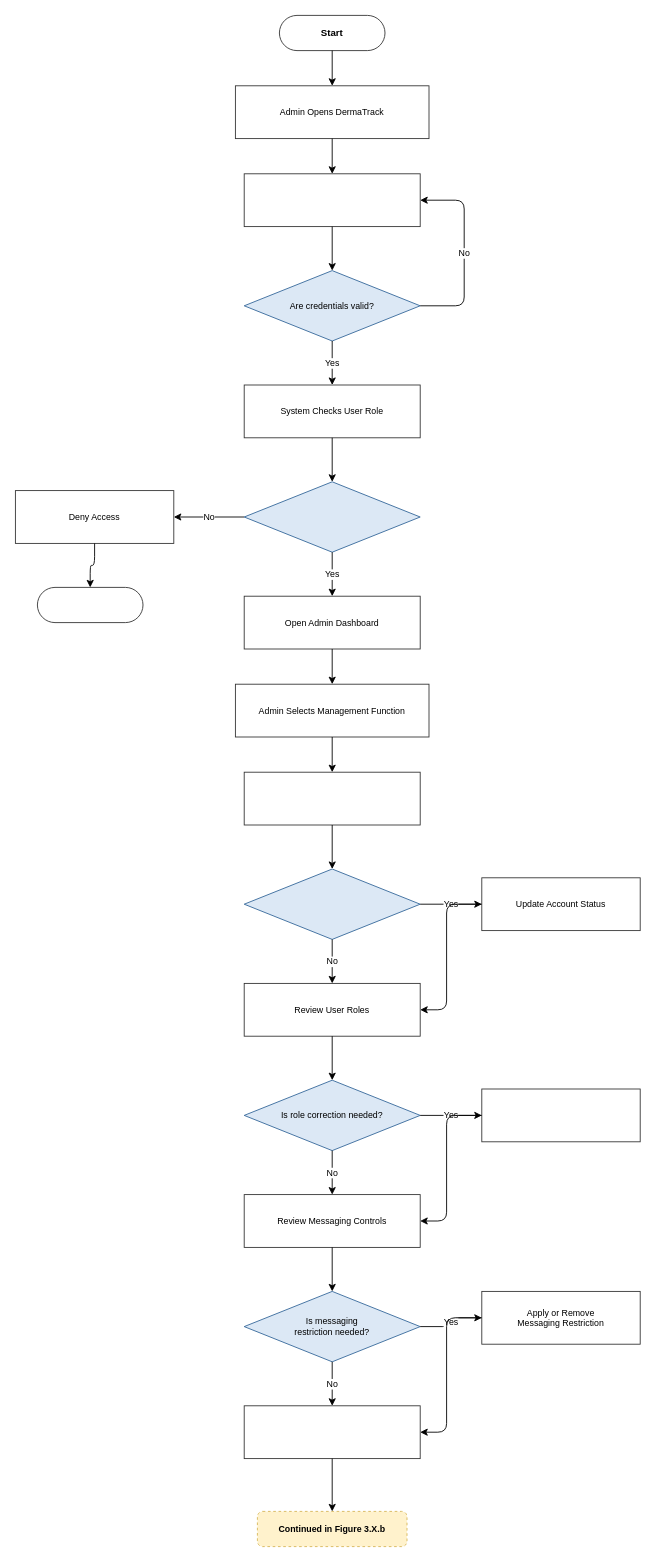
This 656x1562 diagram has some shape labels left out. Here are the shapes that lost their labels. From the top down, the box of each, then its label:
(243, 173, 420, 227): Login
(243, 481, 420, 552): Is the user role Admin?
(37, 587, 143, 623): End
(243, 771, 420, 825): Manage User Accounts
(243, 868, 420, 939): Does an account require activation or deactivation?
(481, 1088, 640, 1142): Update Role Setting
(243, 1405, 420, 1459): Review Audit Logs
